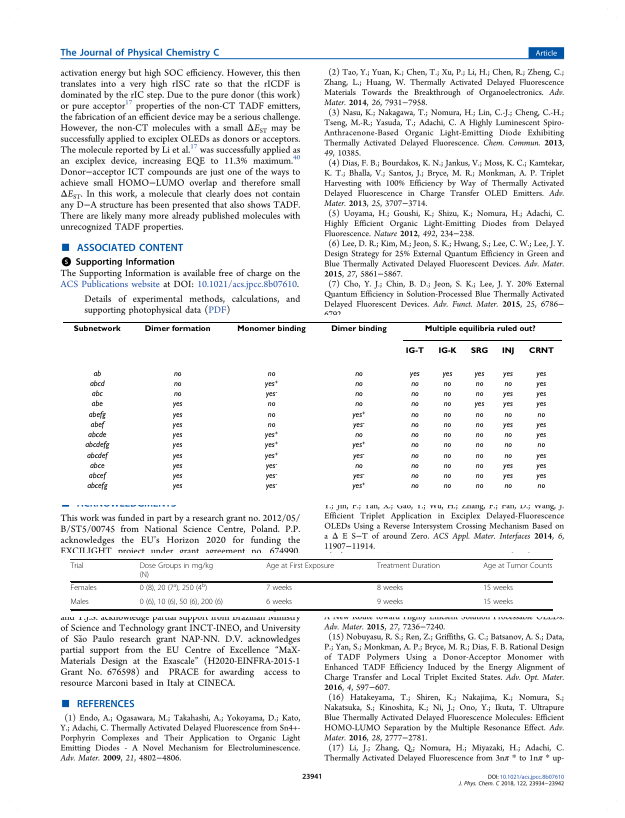borderless: (61, 320, 563, 499), (69, 558, 552, 609)
cell: (139, 562, 214, 580), (423, 325, 536, 334), (139, 598, 224, 608), (139, 582, 208, 594), (482, 562, 553, 571), (265, 562, 335, 571), (236, 325, 306, 334), (143, 325, 211, 334), (376, 562, 441, 571), (330, 325, 387, 334), (72, 325, 121, 334), (482, 584, 514, 594), (482, 598, 514, 608), (265, 584, 293, 594), (376, 584, 404, 594), (265, 598, 293, 608), (376, 598, 404, 608), (70, 584, 97, 594), (528, 347, 554, 356), (84, 441, 110, 450), (85, 451, 108, 461), (69, 598, 90, 608), (86, 482, 108, 491), (87, 410, 106, 420), (404, 347, 424, 356), (437, 347, 457, 356), (469, 347, 489, 356), (87, 431, 107, 440), (87, 472, 106, 481), (88, 379, 105, 389), (88, 461, 105, 471), (89, 420, 105, 430), (264, 379, 279, 389), (351, 410, 366, 420), (264, 451, 279, 461), (264, 461, 278, 471), (500, 347, 515, 356), (264, 431, 279, 440), (264, 441, 279, 450), (351, 441, 366, 450), (351, 482, 366, 491), (352, 420, 365, 430), (352, 451, 365, 461), (70, 562, 84, 571), (264, 390, 278, 399), (264, 472, 278, 481), (264, 482, 278, 491), (441, 369, 453, 379), (473, 369, 485, 379), (535, 369, 547, 379), (535, 379, 547, 389), (171, 410, 183, 420), (171, 420, 183, 430), (535, 420, 547, 430), (171, 451, 183, 461), (535, 451, 547, 461), (171, 461, 183, 471), (535, 461, 547, 471), (90, 390, 103, 399), (90, 400, 103, 409), (352, 472, 365, 481), (409, 369, 420, 379), (502, 369, 513, 379), (502, 420, 513, 430), (502, 461, 513, 471), (535, 390, 547, 399), (171, 400, 183, 409), (473, 400, 485, 409), (535, 400, 547, 409), (171, 431, 183, 440), (535, 431, 547, 440), (171, 441, 183, 450), (171, 472, 183, 481), (535, 472, 547, 481), (171, 482, 183, 491), (92, 369, 102, 379), (172, 369, 182, 379), (266, 369, 276, 379), (172, 379, 182, 389), (442, 379, 452, 389), (474, 379, 484, 389), (266, 410, 276, 420), (442, 410, 452, 420), (474, 410, 484, 420), (536, 410, 546, 420), (266, 420, 276, 430), (442, 420, 452, 430), (474, 420, 484, 430), (442, 451, 452, 461), (474, 451, 484, 461), (442, 461, 452, 471), (474, 461, 484, 471), (502, 390, 513, 399), (502, 400, 513, 409), (502, 472, 513, 481), (354, 369, 363, 379), (354, 379, 363, 389), (410, 379, 419, 389), (503, 379, 512, 389), (172, 390, 182, 399), (442, 390, 452, 399), (474, 390, 484, 399), (266, 400, 276, 409), (442, 400, 452, 409), (410, 410, 419, 420), (503, 410, 512, 420), (410, 420, 419, 430), (442, 431, 452, 440), (474, 431, 484, 440), (442, 441, 452, 450), (474, 441, 484, 450), (536, 441, 546, 450), (410, 451, 419, 461), (503, 451, 512, 461), (354, 461, 363, 471), (410, 461, 419, 471), (442, 472, 452, 481), (474, 472, 484, 481), (442, 482, 452, 491), (474, 482, 484, 491), (536, 482, 546, 491), (354, 390, 363, 399), (410, 390, 419, 399), (354, 400, 363, 409), (410, 400, 419, 409), (354, 431, 363, 440), (410, 431, 419, 440), (503, 431, 512, 440), (410, 441, 419, 450), (503, 441, 512, 450), (410, 472, 419, 481), (410, 482, 419, 491), (503, 482, 512, 491)
